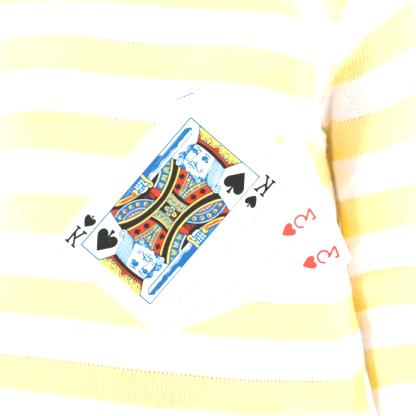3H: (281, 204, 320, 238), (301, 242, 344, 271)
KS: (63, 211, 107, 250), (243, 171, 280, 210)
